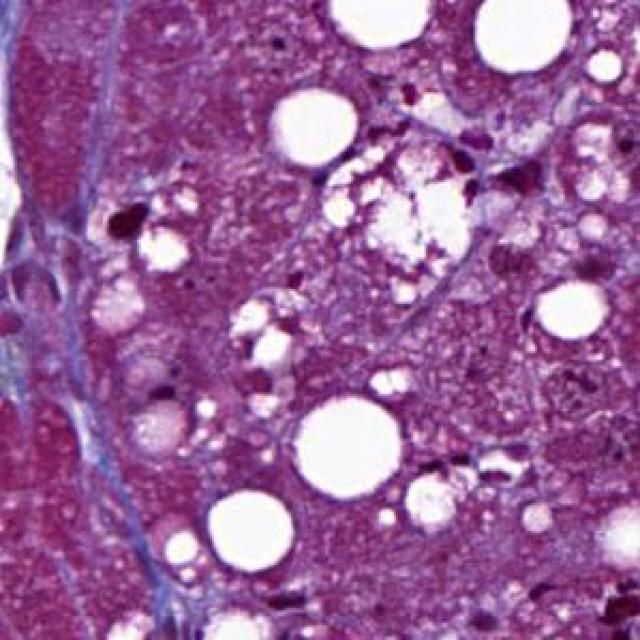ballooning: (314, 122, 483, 287)
